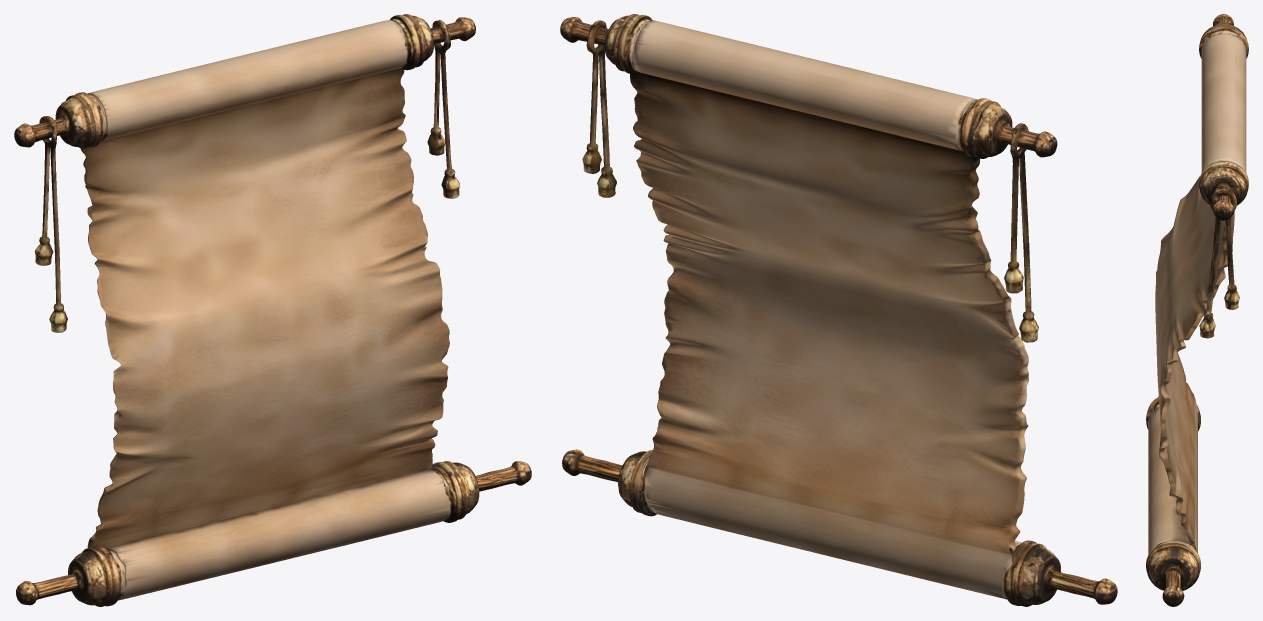
File: esya_eski_harita.glb
3 views of the same model, side by side, from view 1: azimuth 30°, elevation 25°; view 2: azimuth 150°, elevation 25°; view 3: azimuth 270°, elevation 25° (orthographic). The views are drawn at different scales.
Visible parts, largest first — view 1: material; view 2: material; view 3: material.
Boxes of the visible parts, box(x1,y1,x2,y2) form: material: box(14, 14, 531, 606); material: box(560, 14, 1117, 606); material: box(1146, 14, 1248, 606).
Size of the model in its own units: 0.9252 by 0.8399 by 0.1853.
Materials: 1 (1 with a texture image).
